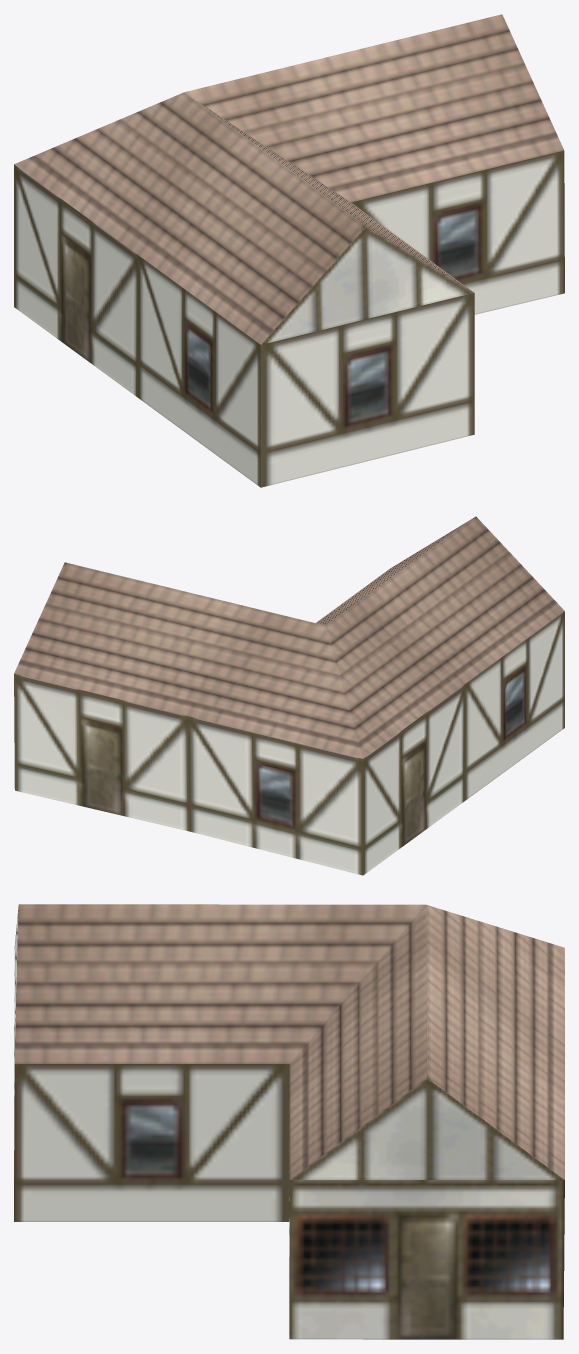
File: house.glb
The picture shows the model from 3 angles, top to bottom: view 1: azimuth 30°, elevation 25°; view 2: azimuth 150°, elevation 25°; view 3: azimuth 270°, elevation 25°; orthographic projection. The views are drawn at different scales.
Visible parts, largest first — view 1: house; view 2: house; view 3: house.
Boxes of the visible parts, x1,y1,x2,y2 form: house: (14,14,564,487); house: (14,516,564,875); house: (14,904,564,1339).
Size of the model in its own units: 1826 by 957 by 1828.
1 material, 1 textured.
